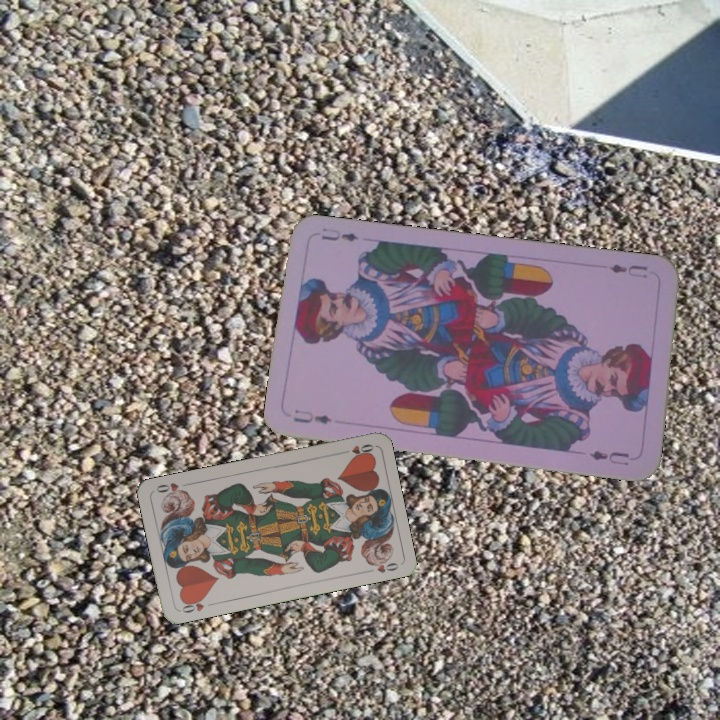EU: (605, 259, 650, 281), (289, 406, 334, 427)
HO: (336, 440, 376, 459), (178, 594, 207, 615)
